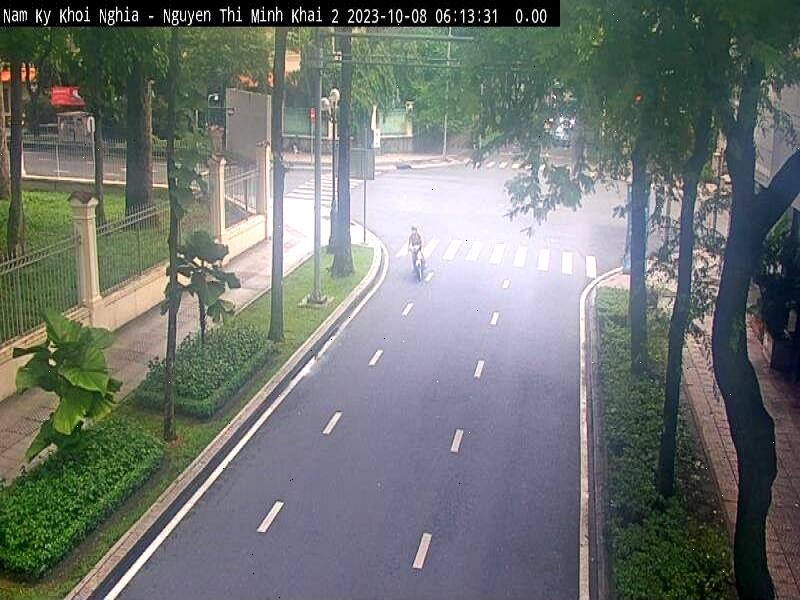motorcycle: (412, 242, 423, 282)
